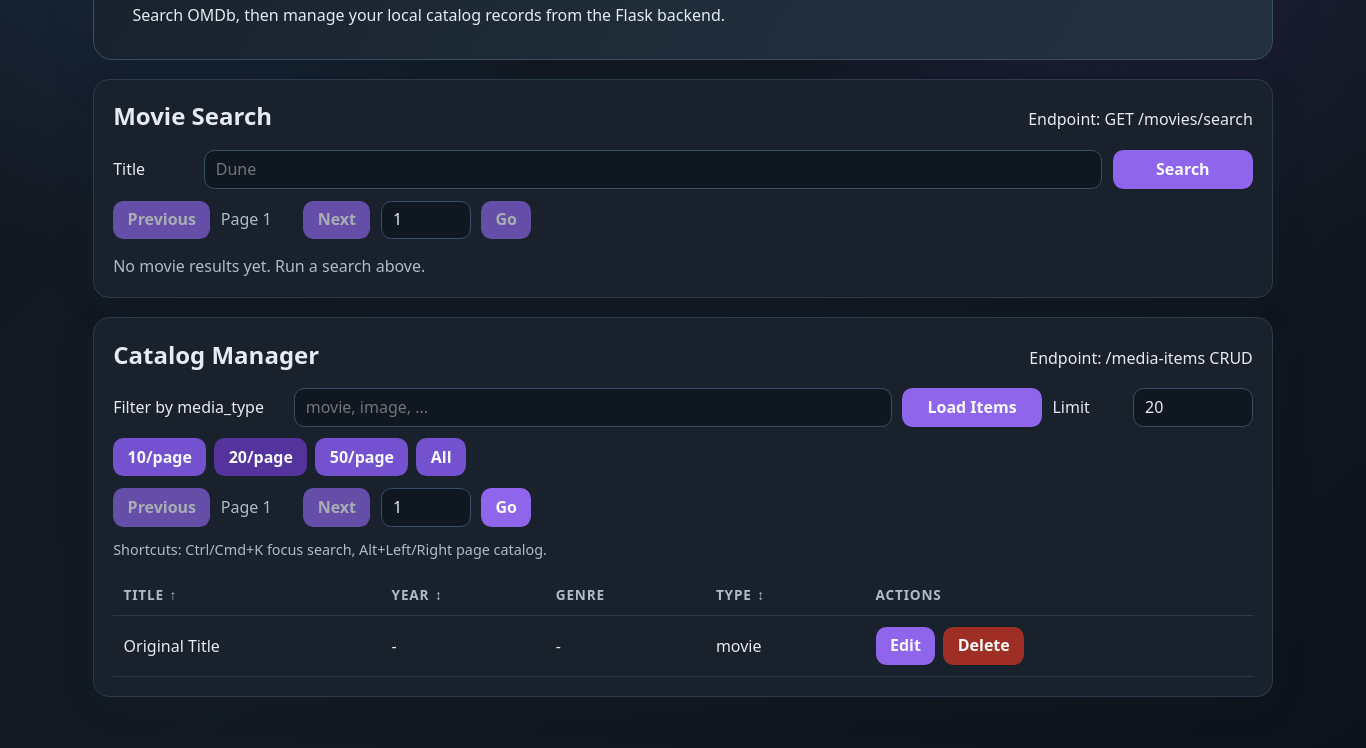
Test: App › rolls back optimistic update when API fails
(page scrolled)
Expected: the text "Original Title" is shown, [113, 616, 381, 676]
Click the button "Edit" at (905, 646), box [876, 627, 935, 665]
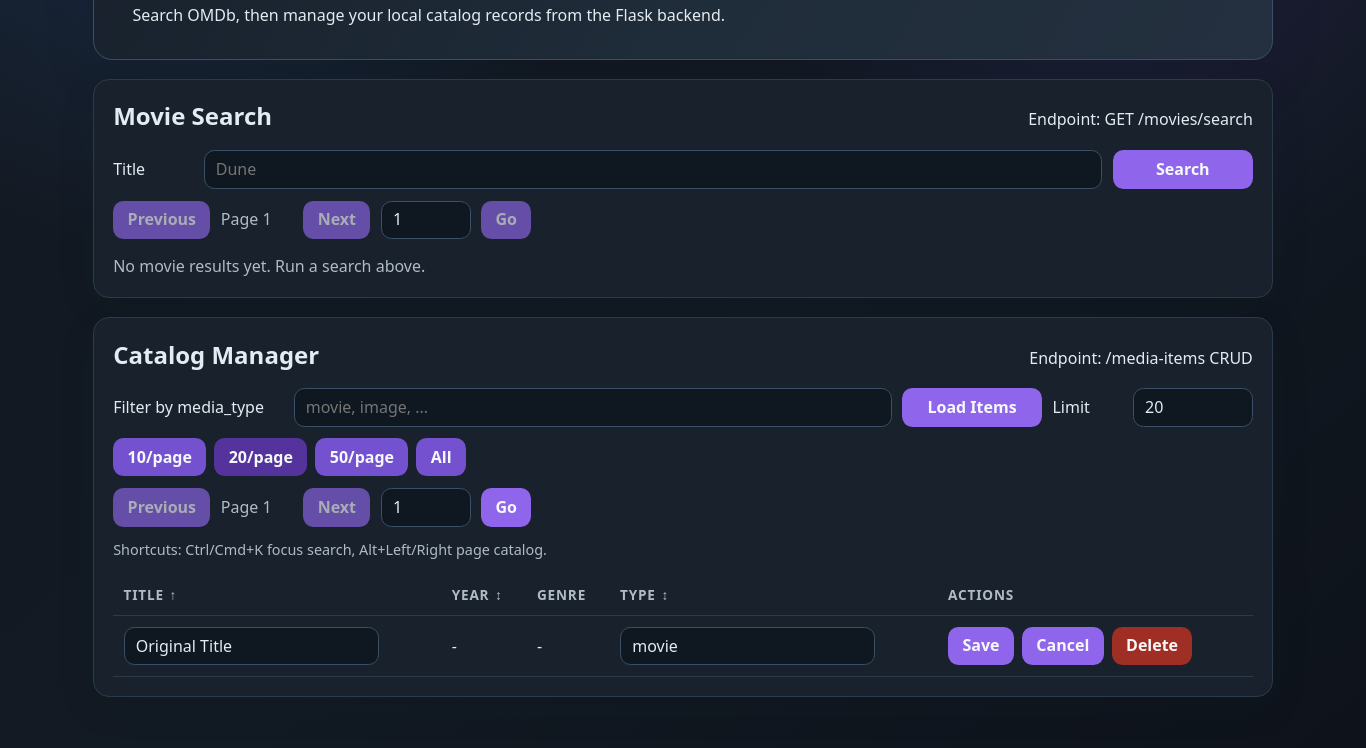
Replace the text in the 1st field showing "Original Title" with "Changed Title" at (251, 646), box [124, 627, 379, 665]
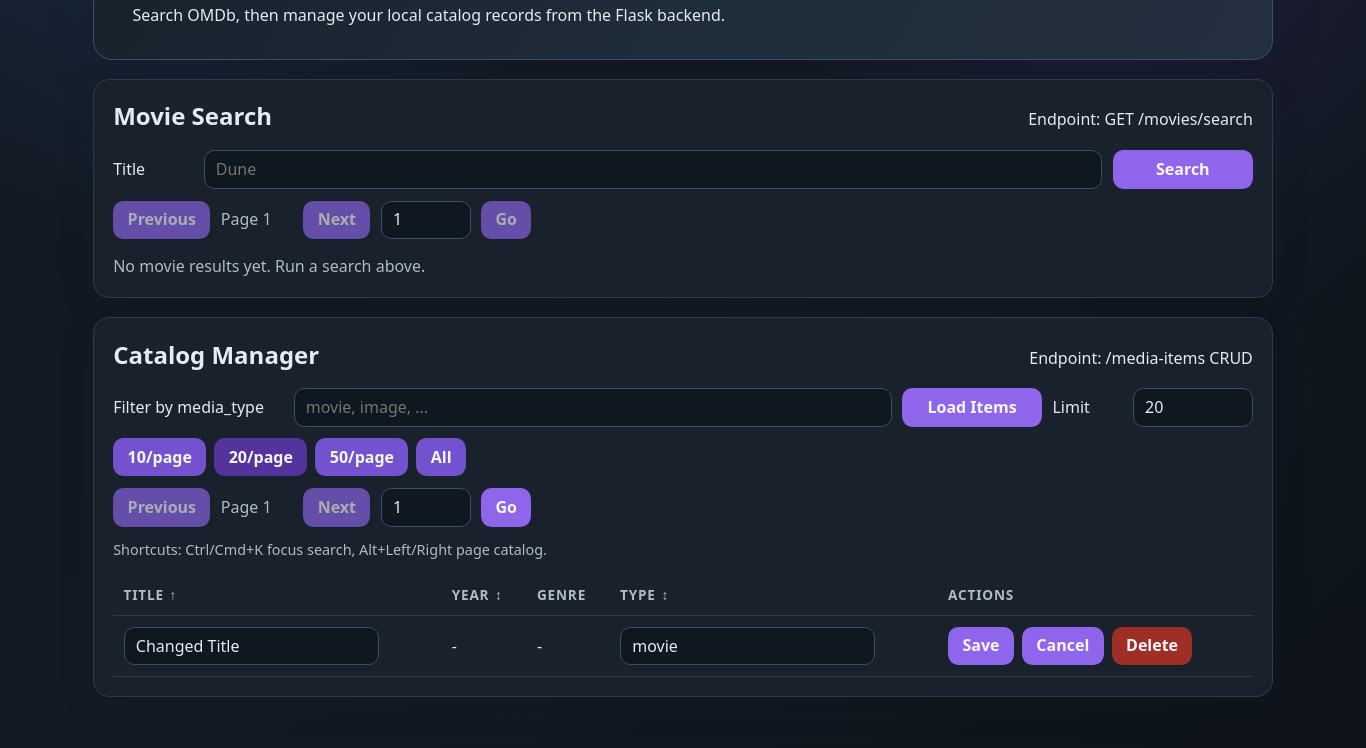
Click the button "Save" at (981, 646), box [948, 627, 1014, 665]
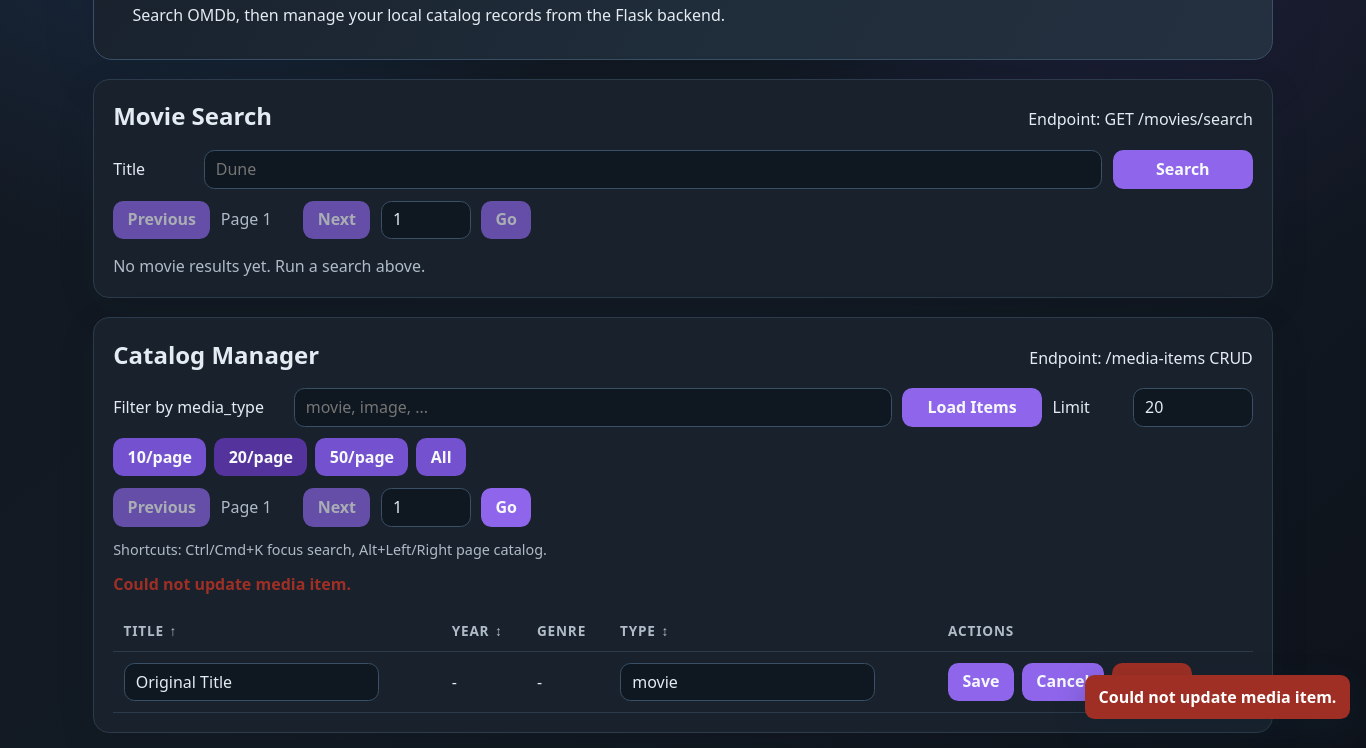
Expected: the 1st field showing "Original Title" is shown, [124, 663, 379, 701]
Expected: the text "Could not update media item." below "Filter by media_type" is shown, [113, 573, 351, 595]
